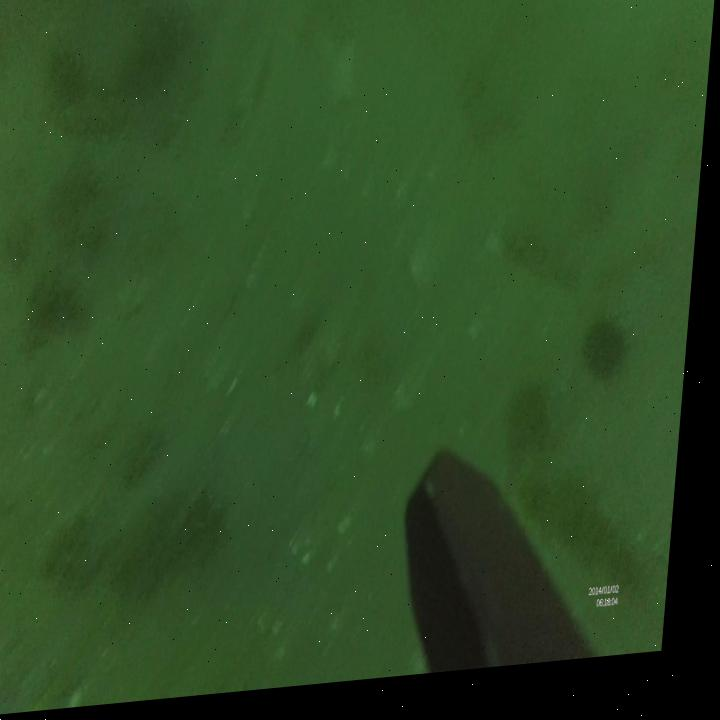echinus: (586, 323, 638, 398)
